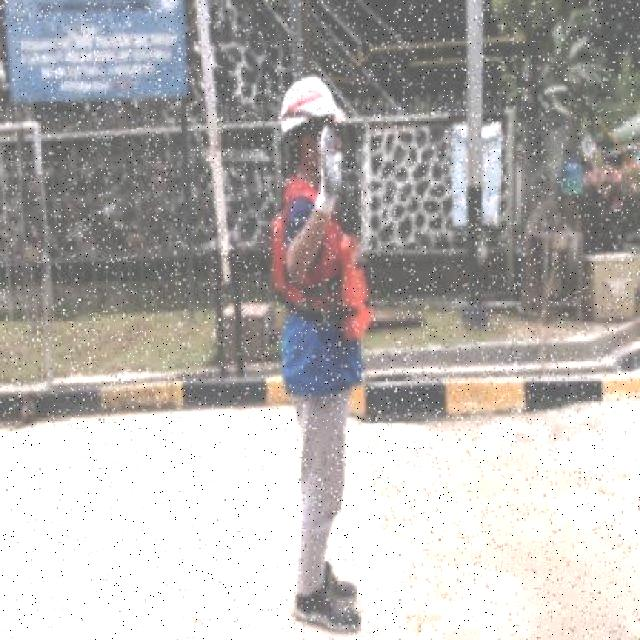Boots: (291, 587, 364, 638), (322, 558, 358, 607)
Gloves: (318, 126, 340, 217)
Helmet: (280, 75, 348, 134)
Mask: (266, 208, 374, 344)
